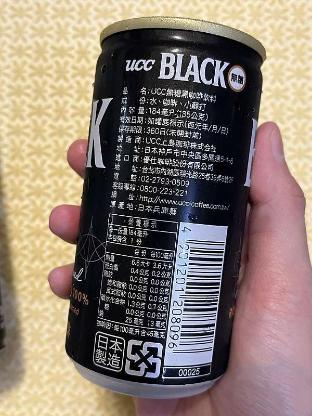Can: (66, 18, 266, 396)
